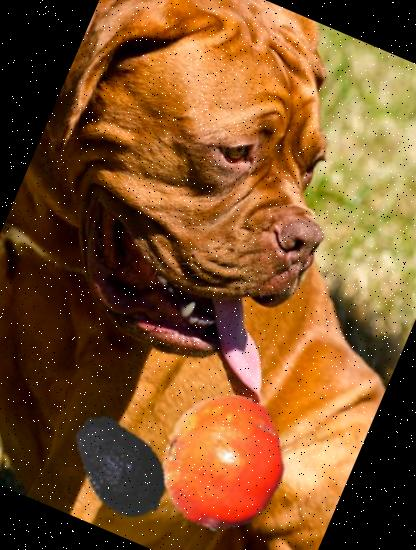Avocado: (46, 392, 195, 540)
Clementine: (131, 372, 315, 550)
